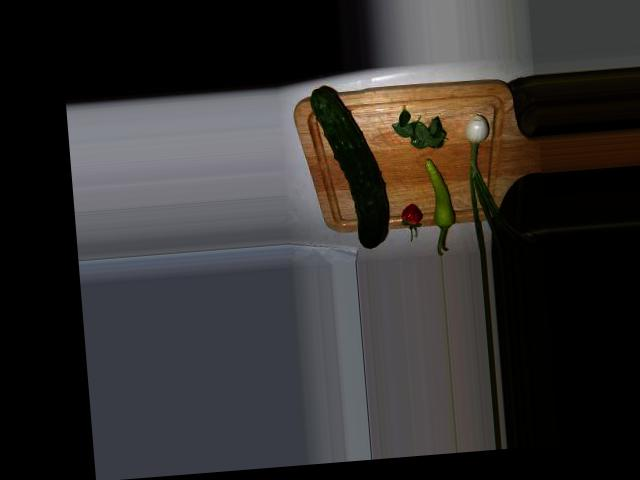cucumber: (309, 83, 390, 251)
